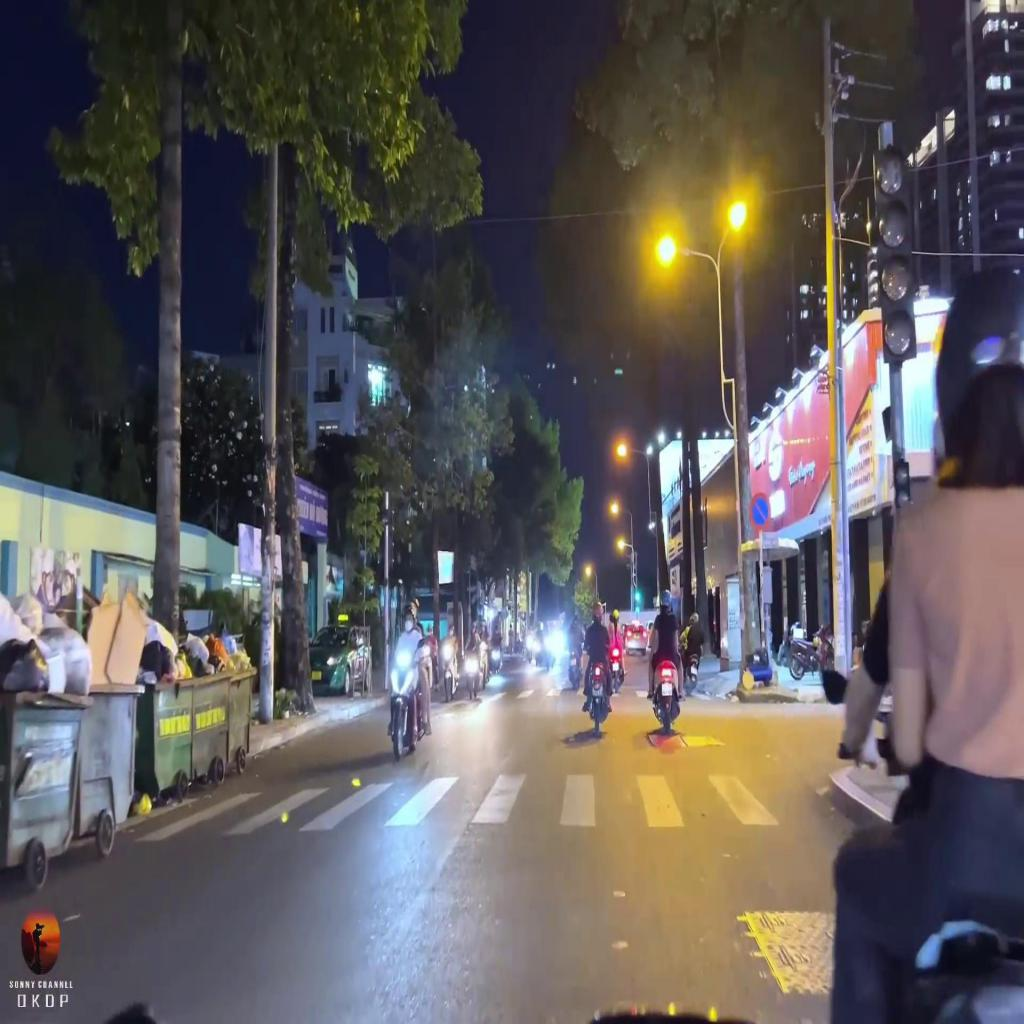cam_do_xe: (748, 487, 772, 535)
